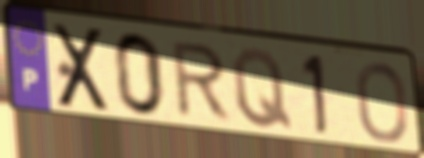0: (111, 32, 169, 119)
1: (300, 52, 331, 139)
O: (353, 59, 410, 145)
Q: (229, 45, 296, 133)
R: (171, 40, 235, 124)
X: (51, 22, 114, 114)
